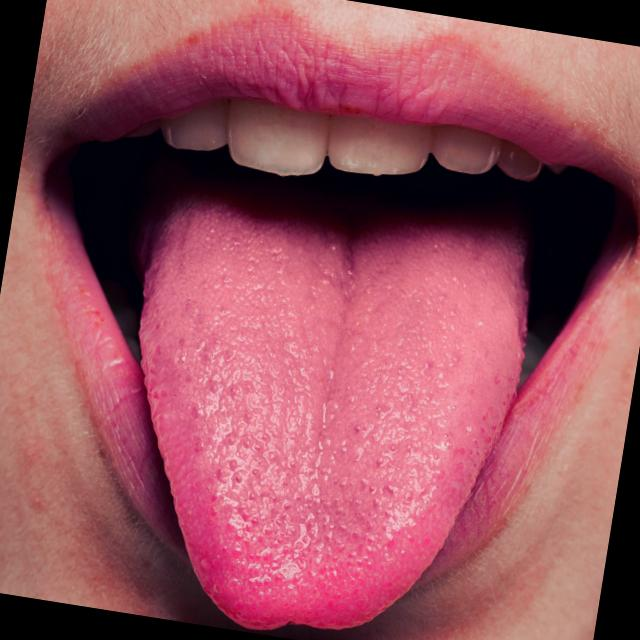No Cancer: (220, 264, 427, 538)
